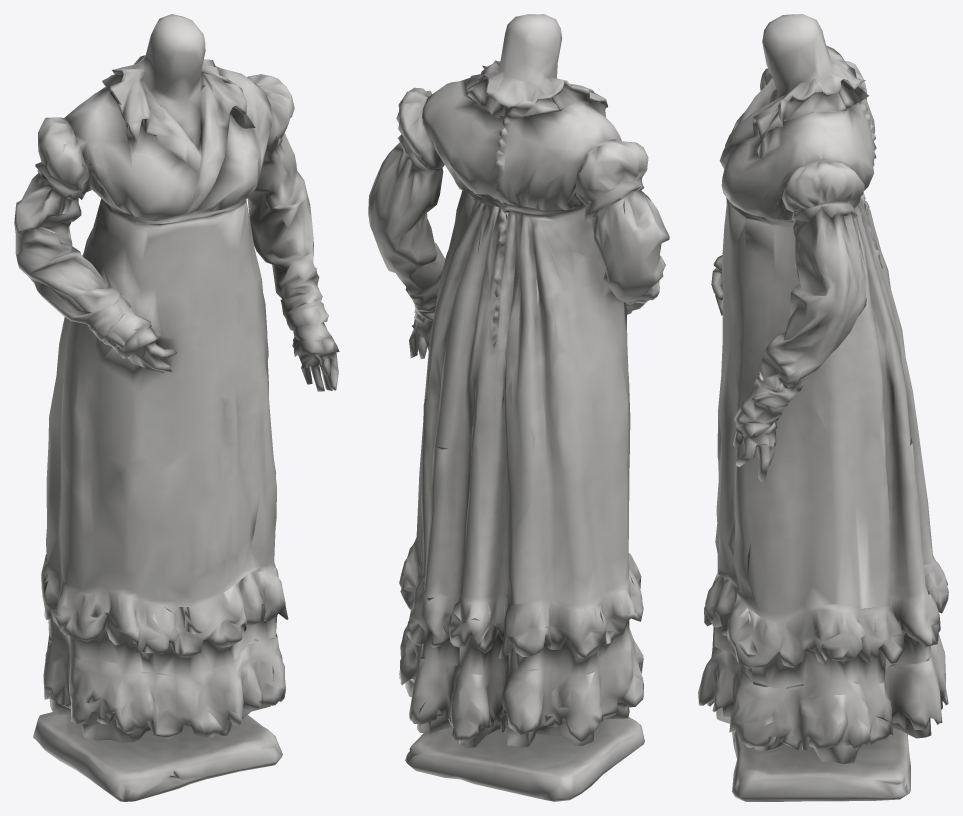
File: dress-20001033.glb
3 renders of one model, left to right at view 1: azimuth 30°, elevation 25°; view 2: azimuth 150°, elevation 25°; view 3: azimuth 270°, elevation 25°, orthographic. The views are drawn at different scales.
Visible parts, largest first — view 1: Mesh; view 2: Mesh; view 3: Mesh.
Boxes of the visible parts, x1,y1,x2,y2 form: Mesh: (14,14,339,801); Mesh: (368,14,669,801); Mesh: (698,14,948,801).
Size of the model in its own units: 0.6212 by 1.5 by 0.4568.
1 material, 1 textured.
